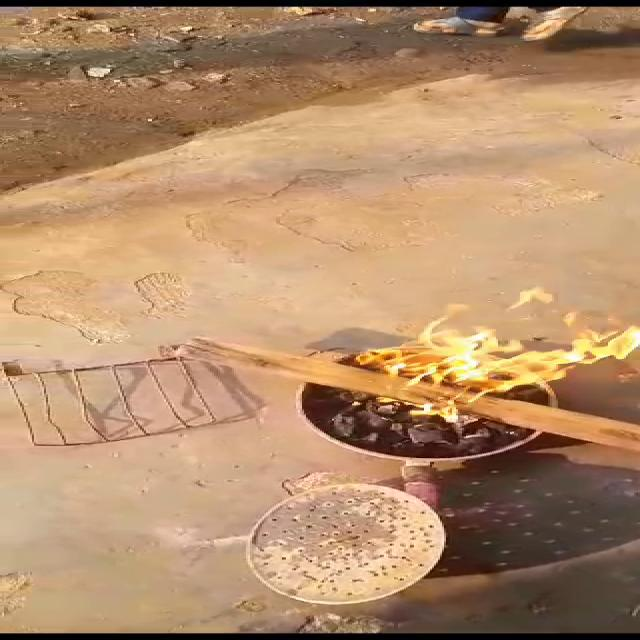Fire: (358, 291, 640, 414)
